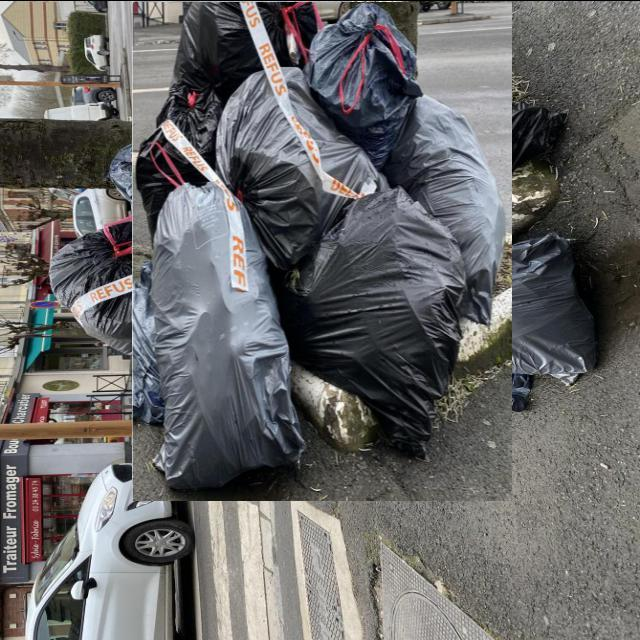Trashbag: (147, 187, 285, 487), (304, 210, 460, 400), (218, 95, 378, 222), (505, 227, 597, 392), (421, 108, 507, 270), (159, 2, 283, 114), (49, 215, 140, 354), (319, 24, 425, 135), (134, 83, 226, 204)
